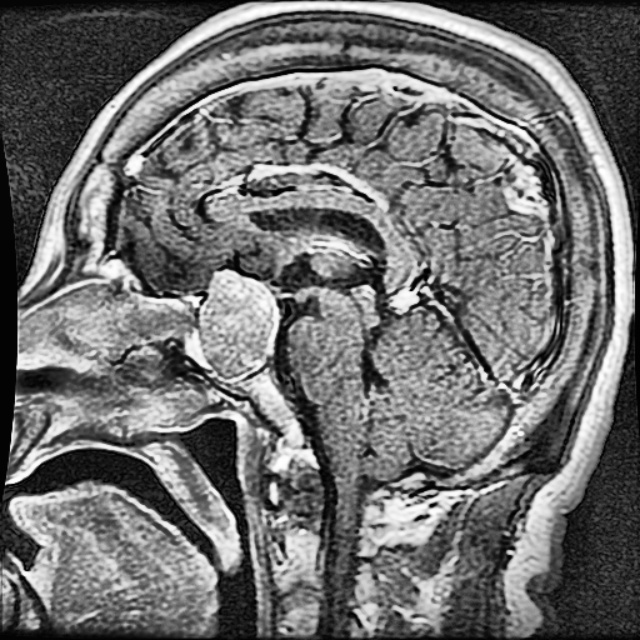Pituitary: (203, 274, 277, 378)
